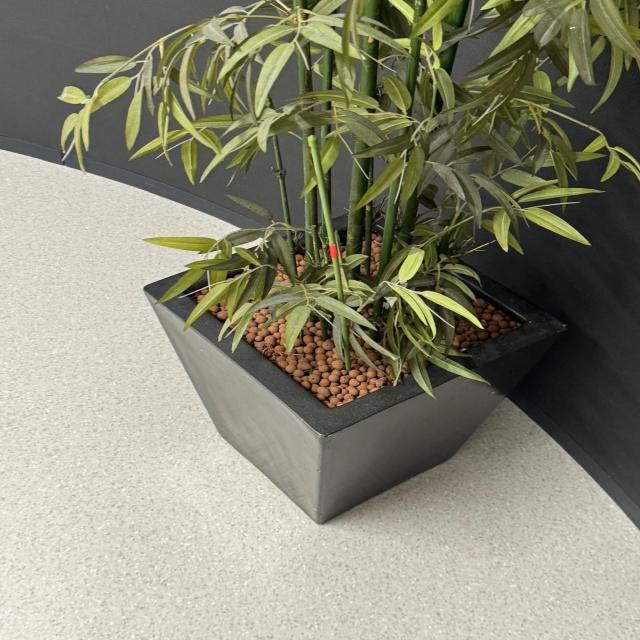Pot: (142, 203, 571, 527)
